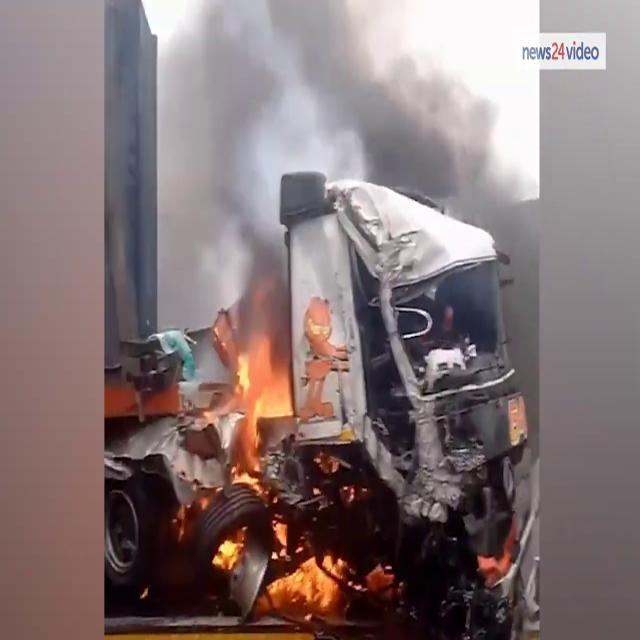Fire: (264, 542, 402, 630), (218, 328, 298, 469), (209, 528, 249, 576)
Smoke: (142, 0, 534, 298)
